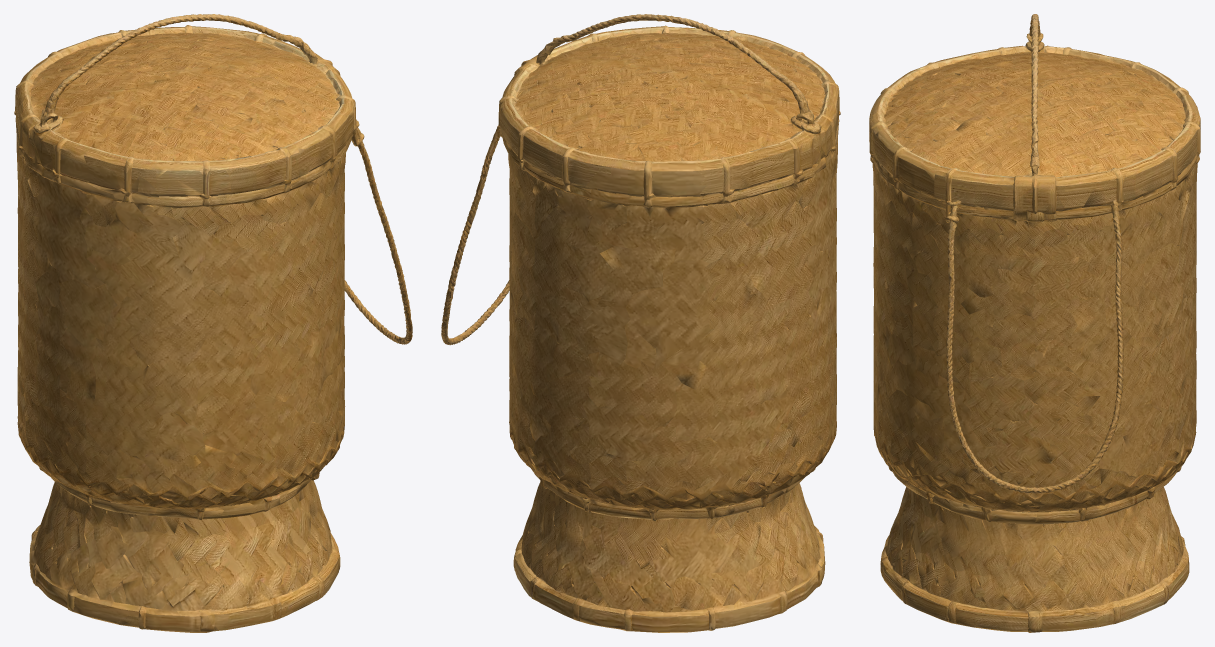
The model's file is sticky-rice-basket.glb.
3 views of the same model, side by side, from view 1: azimuth 30°, elevation 25°; view 2: azimuth 150°, elevation 25°; view 3: azimuth 270°, elevation 25° (orthographic). The views are drawn at different scales.
Visible parts, largest first — view 1: Mesh_0; view 2: Mesh_0; view 3: Mesh_0.
Boxes of the visible parts, x1,y1,x2,y2 form: Mesh_0: (14,14,412,632); Mesh_0: (441,14,840,632); Mesh_0: (869,14,1200,632).
Size of the model in its own units: 0.6724 by 1 by 0.5588.
Materials: 1 (1 with a texture image).
